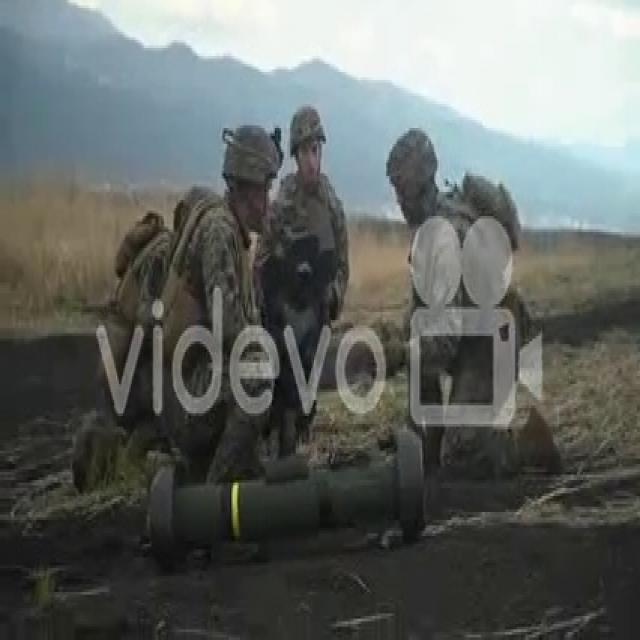rocket: (146, 431, 422, 545)
